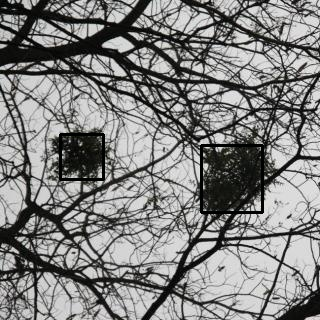bird-nest: (191, 134, 278, 218), (51, 128, 112, 186)
